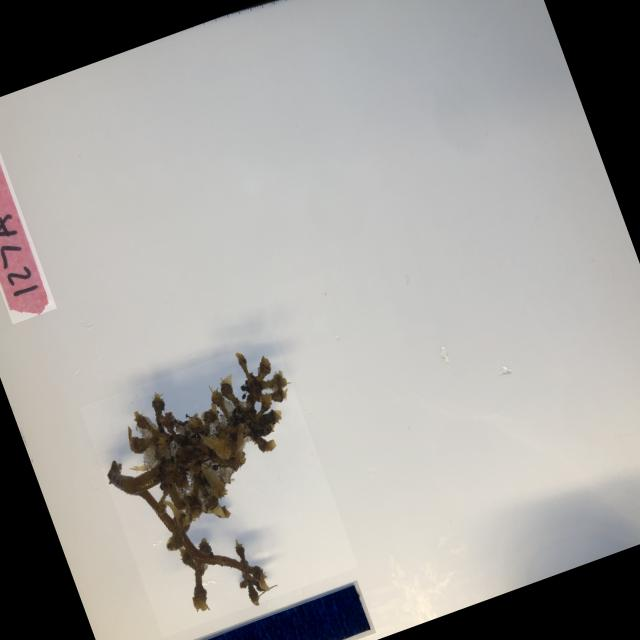index: (0, 113, 57, 323)
measure_label: (118, 579, 376, 640)
rachis_cluster: (79, 336, 358, 636)
